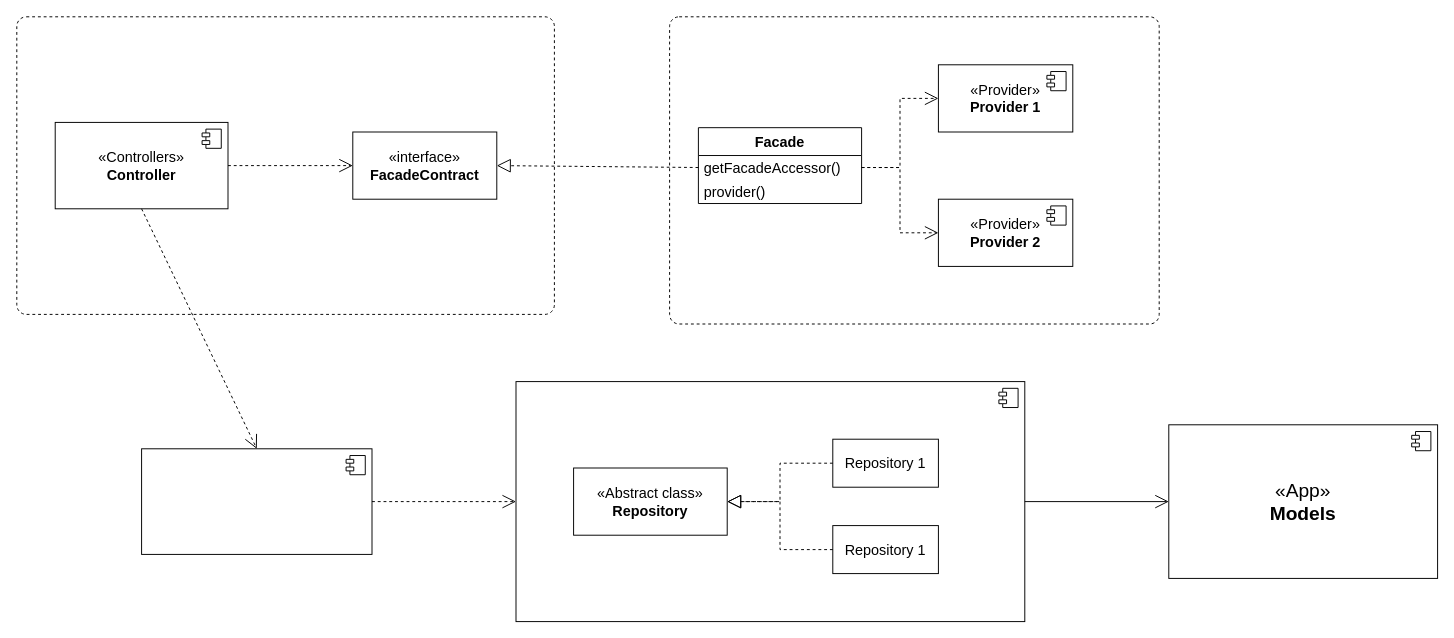
This 1454x638 diagram has some shape labels left out. The box of each missing label's shape, as (x1, y1, x2, y2) in pixels:
<<App>>: (16, 16, 554, 314)
<<Facades>>: (669, 16, 1159, 324)
«Repositories» Repository: (515, 381, 1025, 622)
«Services» Service: (141, 448, 372, 554)
